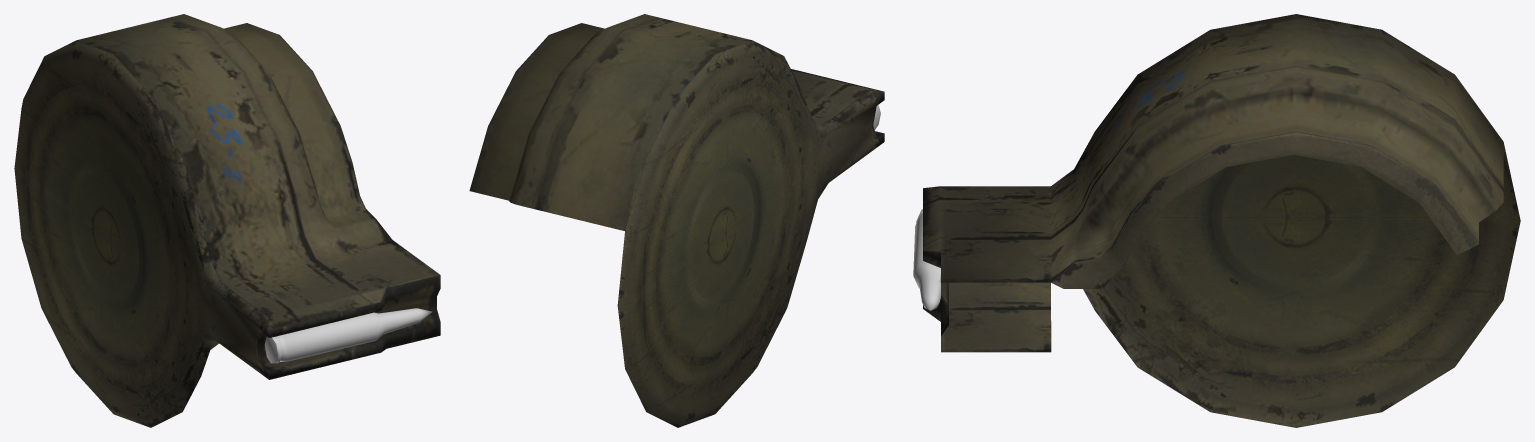
File: t6_attach_mag_hamr_view_LOD0.obj
3 views of the same model, side by side, from view 1: azimuth 30°, elevation 25°; view 2: azimuth 150°, elevation 25°; view 3: azimuth 270°, elevation 25° (orthographic). The views are drawn at different scales.
Visible parts, largest first — view 1: mtl_t6_wpn_lmg_hamr_parts, mtl_t6_attach_bullet; view 2: mtl_t6_wpn_lmg_hamr_parts; view 3: mtl_t6_wpn_lmg_hamr_parts, mtl_t6_attach_bullet.
Part boxes in pixels (bbox=[...]): mtl_t6_wpn_lmg_hamr_parts: bbox=[14, 14, 440, 427]; mtl_t6_attach_bullet: bbox=[264, 308, 432, 363]; mtl_t6_wpn_lmg_hamr_parts: bbox=[469, 14, 884, 427]; mtl_t6_wpn_lmg_hamr_parts: bbox=[923, 14, 1520, 427]; mtl_t6_attach_bullet: bbox=[913, 209, 940, 310].
Bounding box in the file's own units: 7.74 × 14.84 × 19.74.
